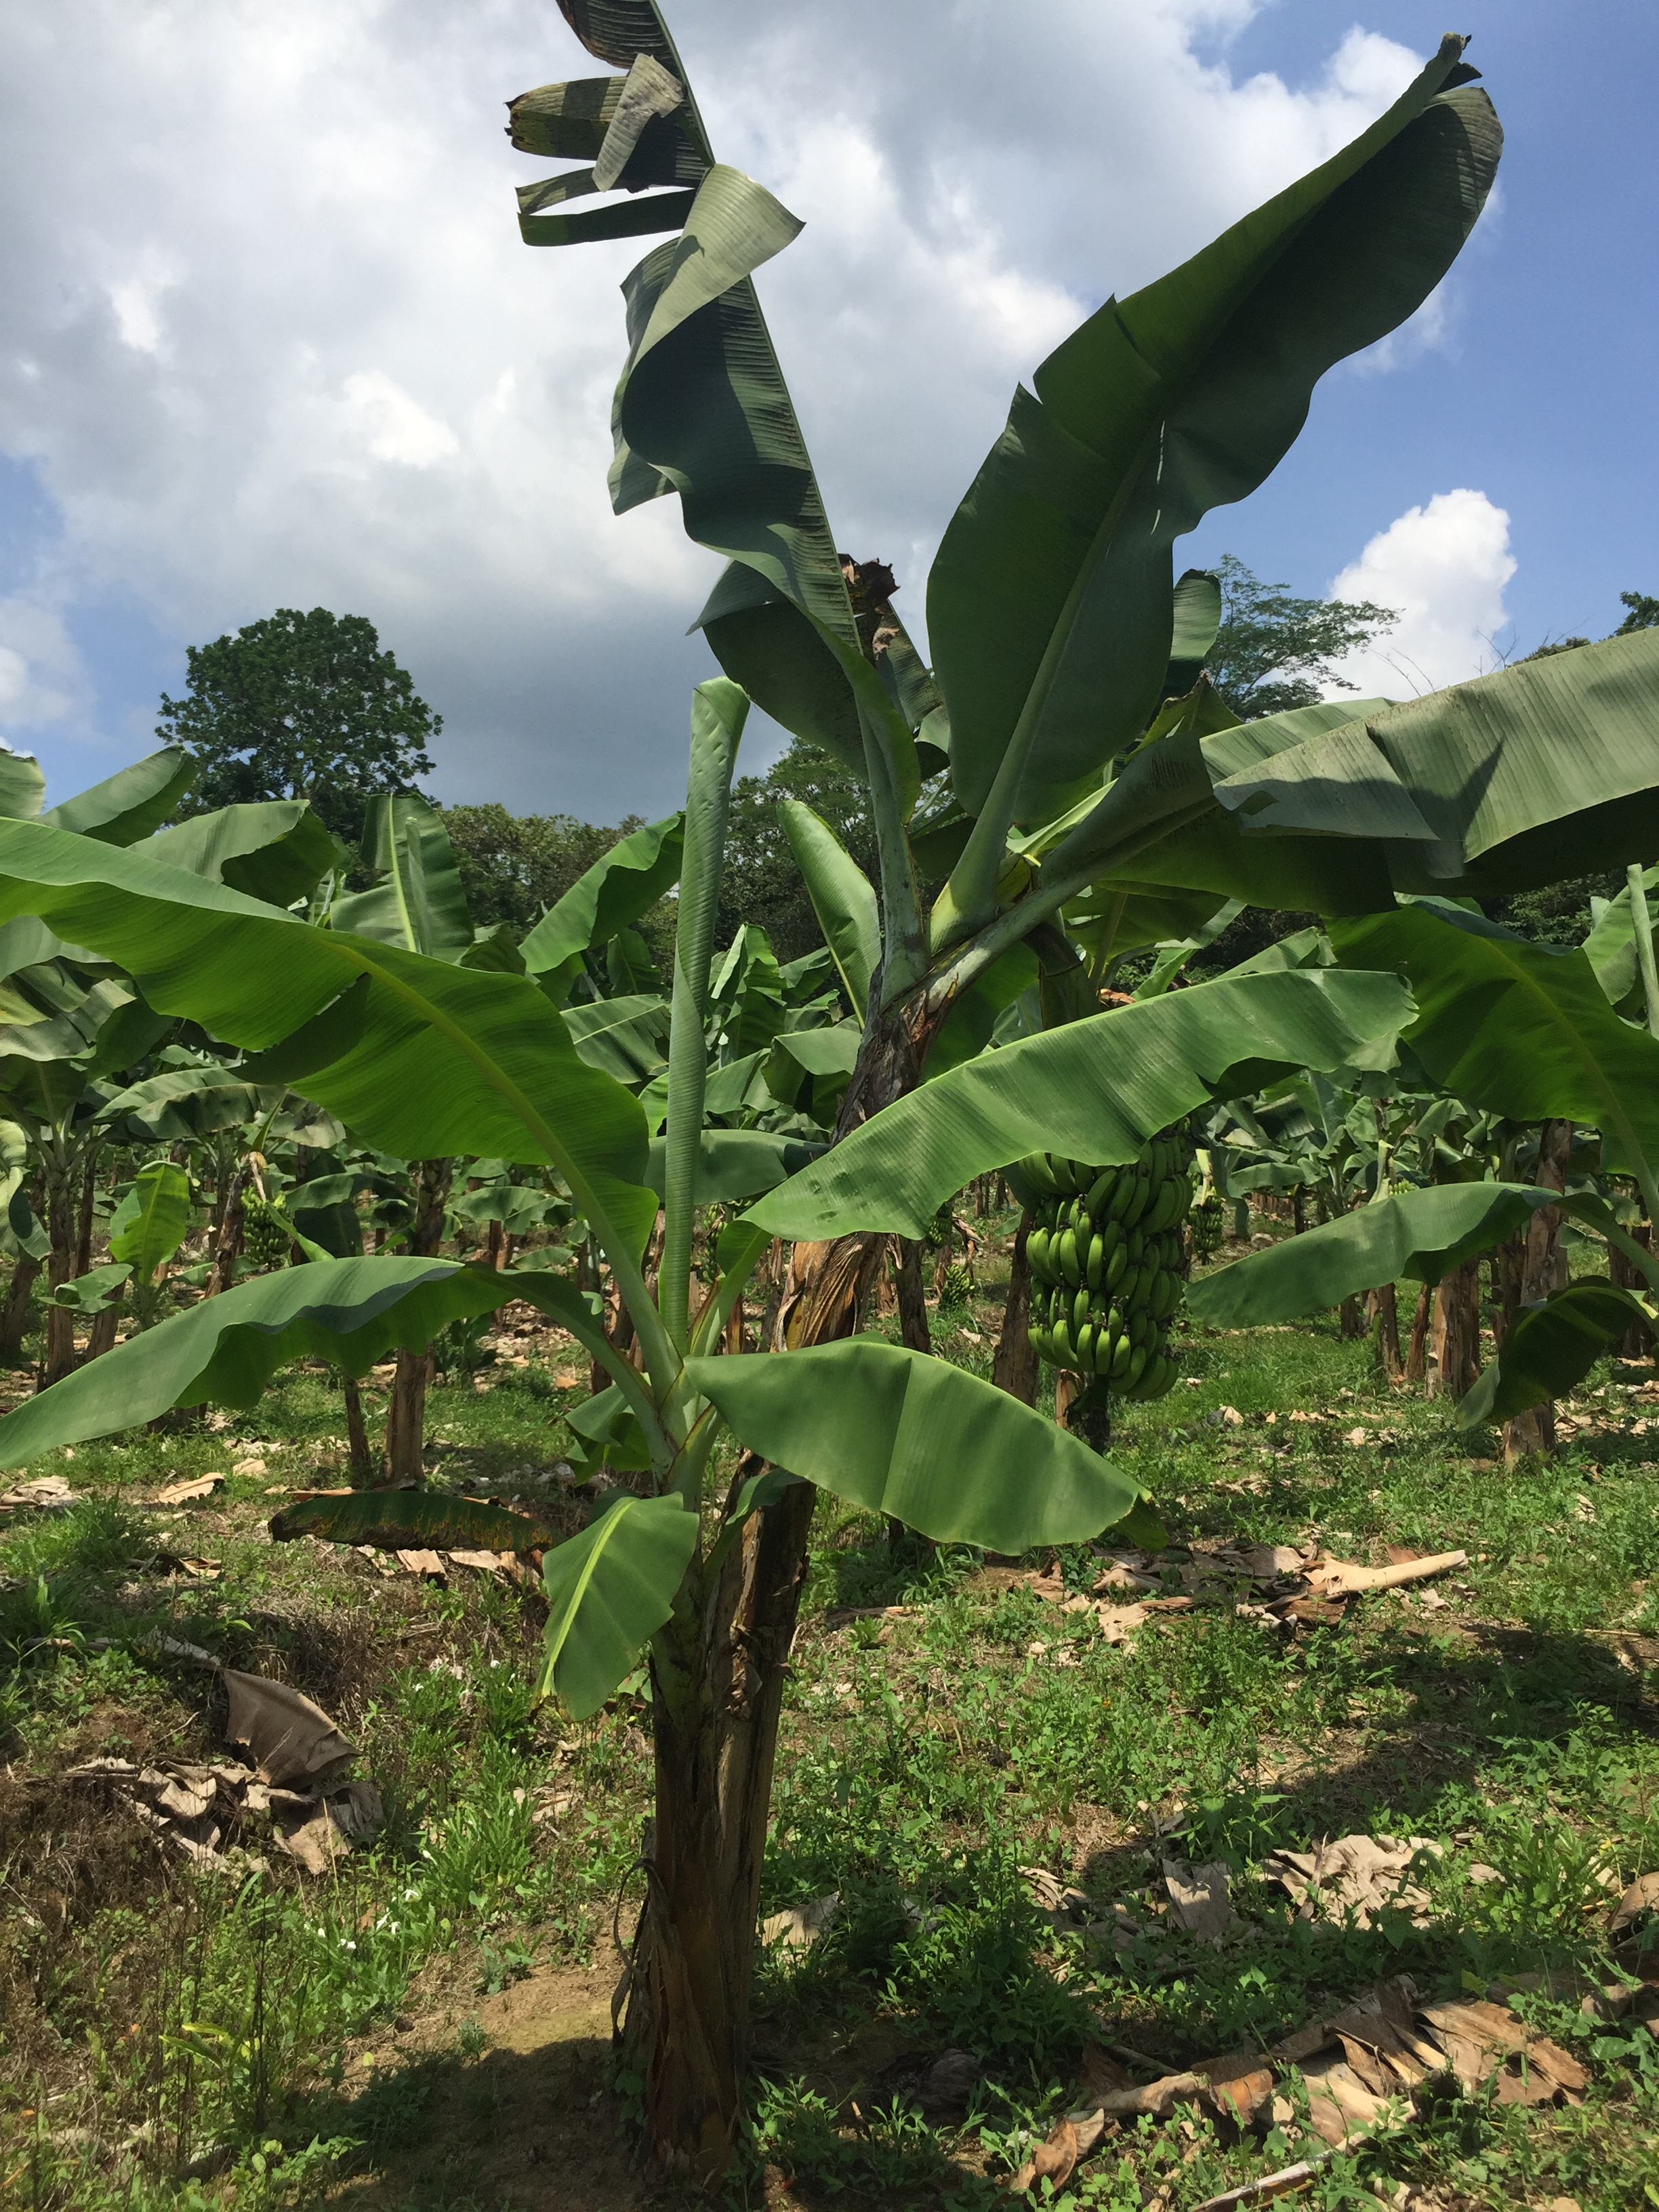candleleafs: (655, 678, 753, 1362)
